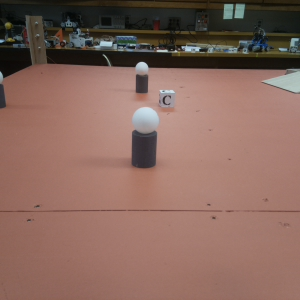blockC: (159, 91, 175, 109)
corner: (24, 17, 45, 65)
obstacle: (135, 107, 156, 169), (137, 63, 149, 94)
